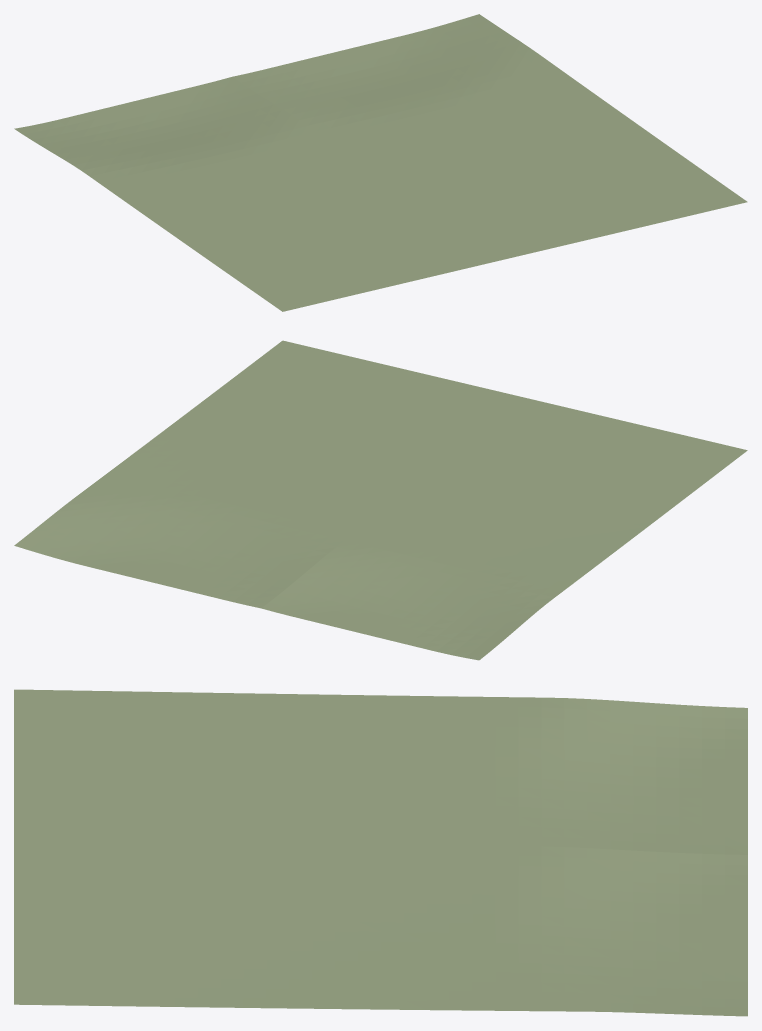
The model's file is gardens-4-3.glb.
The picture shows the model from 3 angles, top to bottom: view 1: azimuth 30°, elevation 25°; view 2: azimuth 150°, elevation 25°; view 3: azimuth 270°, elevation 25°; orthographic projection. The views are drawn at different scales.
Visible parts, largest first — view 1: gardens-4-3; view 2: gardens-4-3; view 3: gardens-4-3.
Part boxes in pixels (left/top/right/bottom): gardens-4-3: left=14, top=14, right=747, bottom=311; gardens-4-3: left=14, top=340, right=747, bottom=660; gardens-4-3: left=14, top=689, right=747, bottom=1016.
Size of the model in its own units: 256 by 8.03 by 256.
